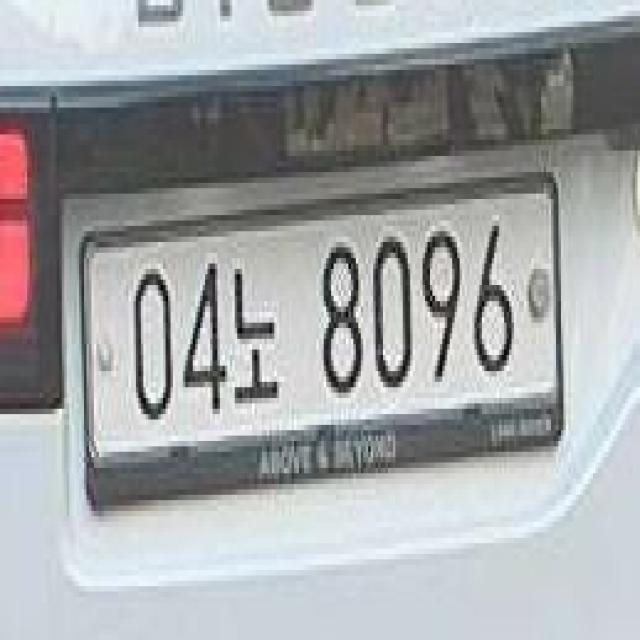illegal_plate: (81, 174, 568, 505)
